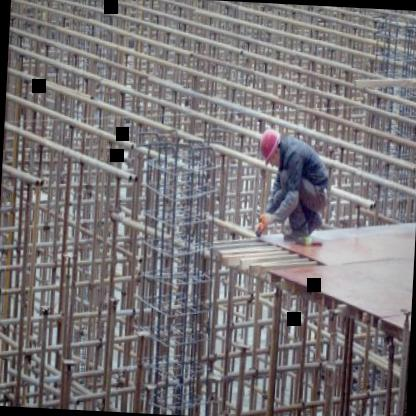helmet: (254, 126, 282, 170)
